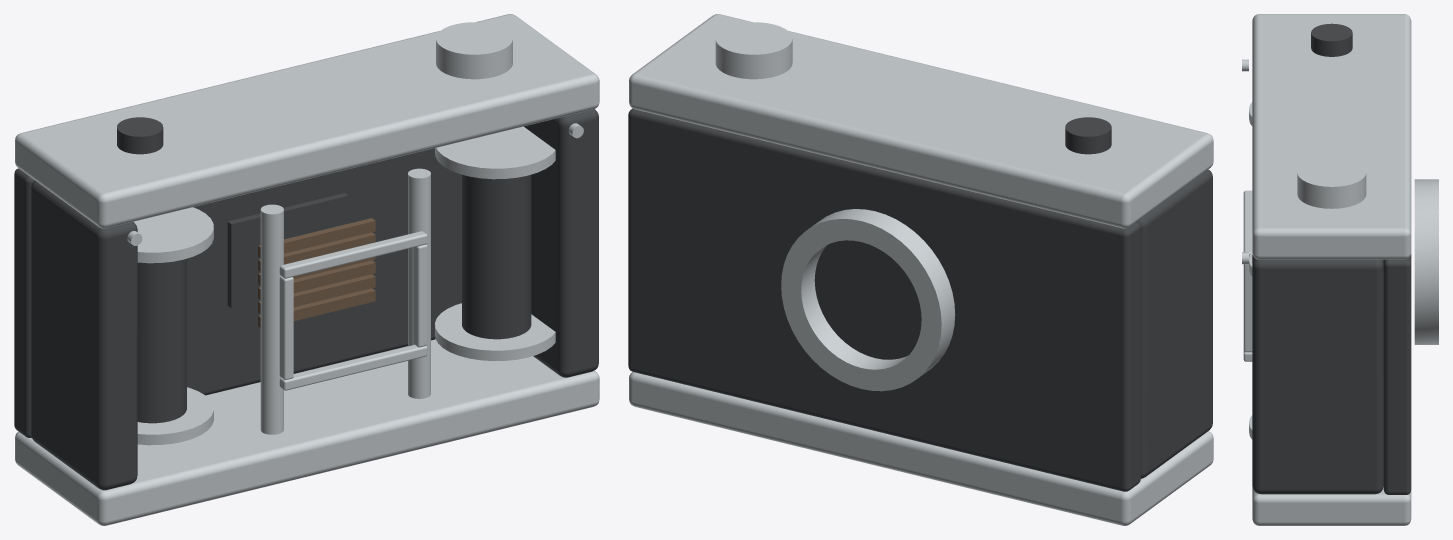
File: camera-repair-and-darkroom-laboratory-opened-mechanica-fa704860__31772.glb
3 views of the same model, side by side, from view 1: azimuth 30°, elevation 25°; view 2: azimuth 150°, elevation 25°; view 3: azimuth 270°, elevation 25° (orthographic). The views are drawn at different scales.
Parts seen in each view (by area): view 1: opened-mechanical-camera-body; view 2: opened-mechanical-camera-body; view 3: opened-mechanical-camera-body.
Part boxes in pixels (box(x1,y1,x2,y2)): opened-mechanical-camera-body: box(14, 14, 599, 525); opened-mechanical-camera-body: box(628, 14, 1213, 525); opened-mechanical-camera-body: box(1242, 14, 1438, 525).
Size of the model in its own units: 0.15 by 0.102 by 0.057.
